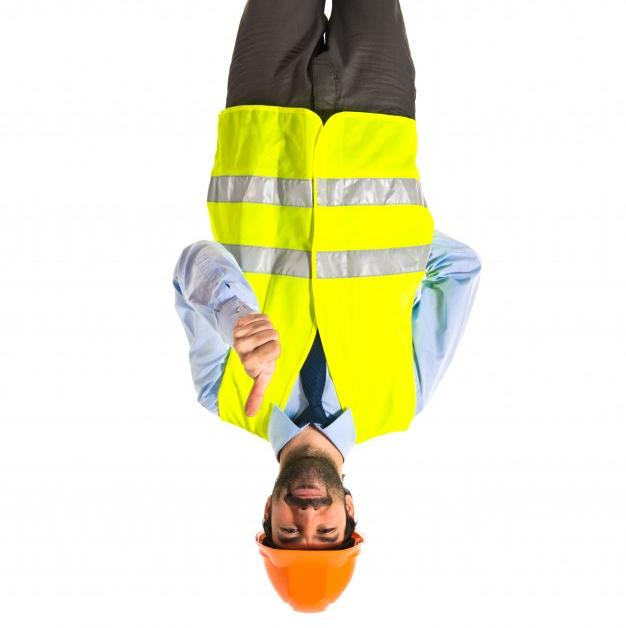thumbsdown: (232, 315, 282, 417)
